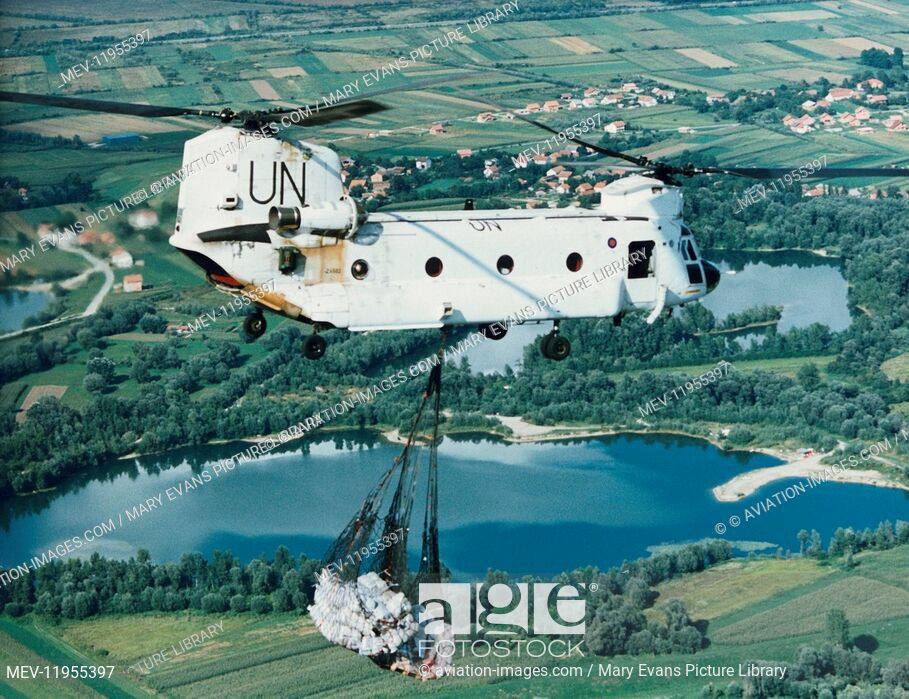chinook: (119, 86, 732, 375)
